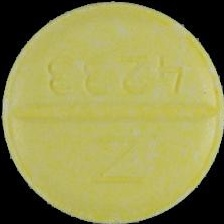63629-4968: (0, 0, 224, 224)
